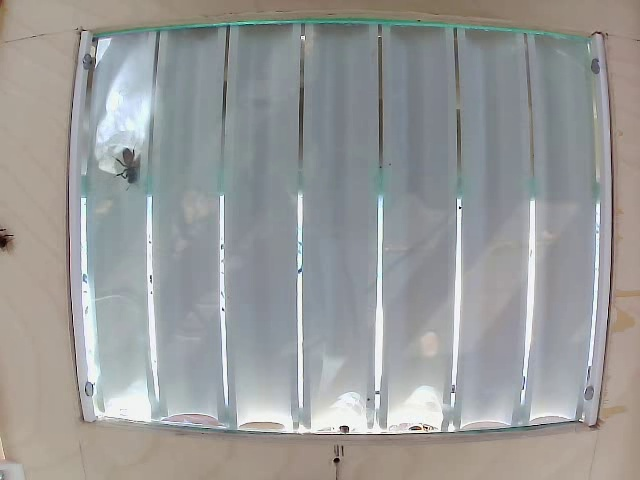bee: (111, 140, 154, 198)
